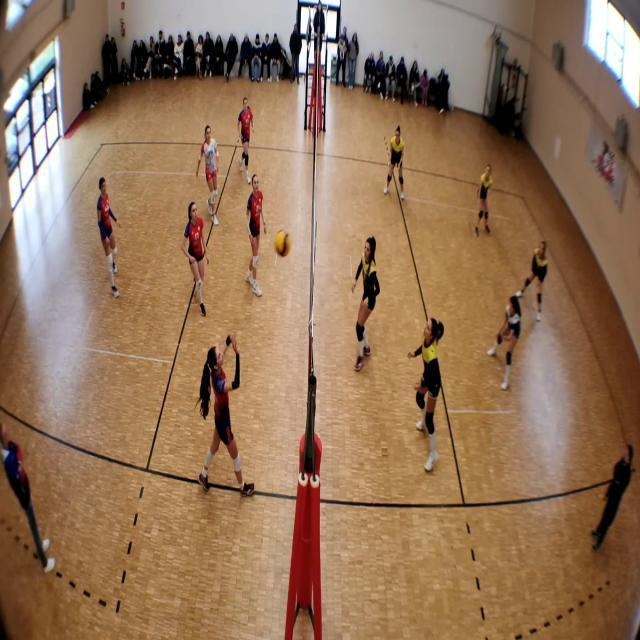volleyball: (276, 230, 292, 256)
